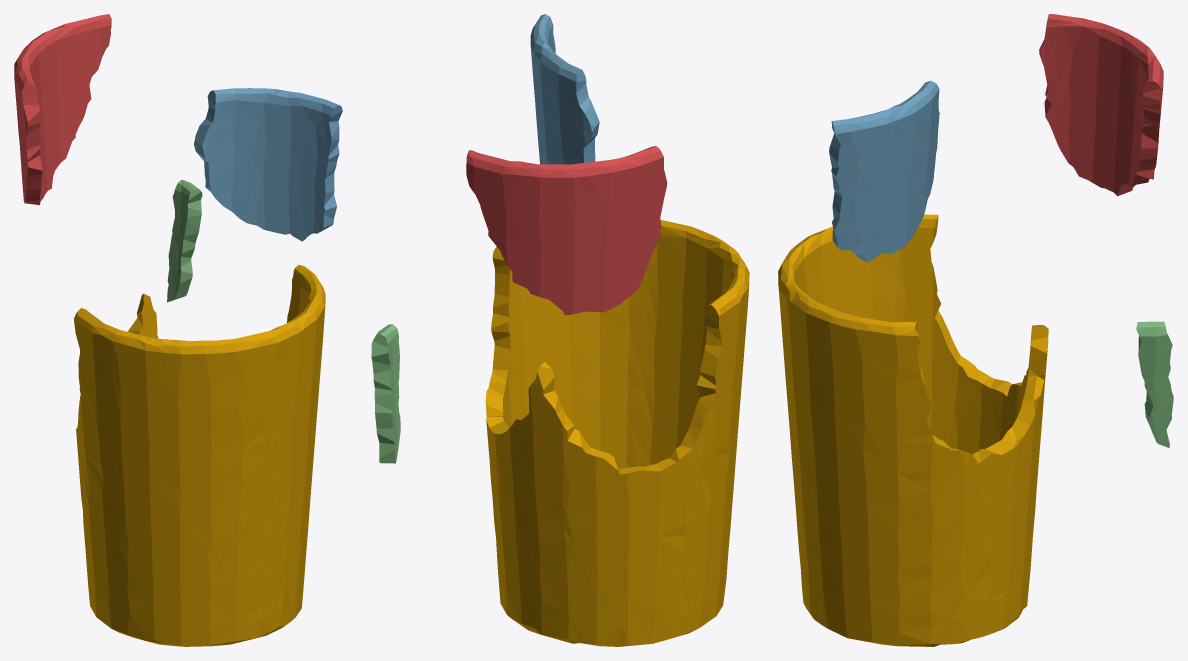
File: fractured_52_4pcs_transformed.glb
3 views of the same model, side by side, from view 1: azimuth 30°, elevation 25°; view 2: azimuth 150°, elevation 25°; view 3: azimuth 270°, elevation 25° (orthographic). The views are drawn at different scales.
Visible parts, largest first — view 1: piece_0.obj, piece_2.obj, piece_1.obj, piece_3.obj; view 2: piece_0.obj, piece_1.obj, piece_2.obj, piece_3.obj; view 3: piece_0.obj, piece_1.obj, piece_2.obj, piece_3.obj.
Part boxes in pixels (<box>): piece_0.obj: <box>74,264,325,646</box>; piece_2.obj: <box>194,88,342,241</box>; piece_1.obj: <box>14,14,111,205</box>; piece_3.obj: <box>167,179,202,302</box>; piece_0.obj: <box>485,220,749,646</box>; piece_1.obj: <box>466,146,667,315</box>; piece_2.obj: <box>530,14,599,164</box>; piece_3.obj: <box>371,324,400,463</box>; piece_0.obj: <box>778,214,1048,646</box>; piece_1.obj: <box>1039,14,1163,196</box>; piece_2.obj: <box>829,80,939,262</box>; piece_3.obj: <box>1136,321,1173,447</box>.
Size of the model in its own units: 0.7449 by 1.6 by 1.07.
